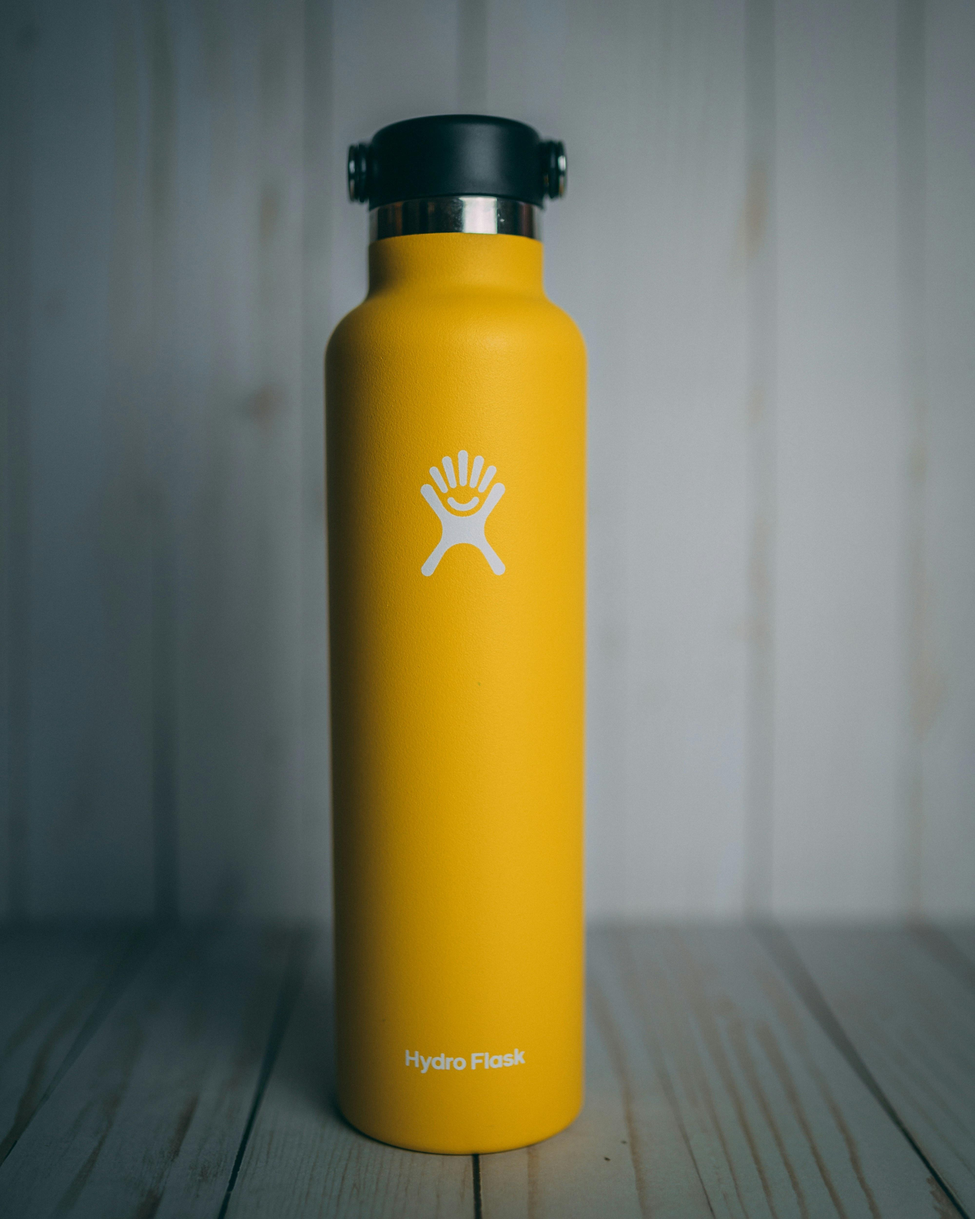Bottle-Detection: (273, 71, 656, 1212)
